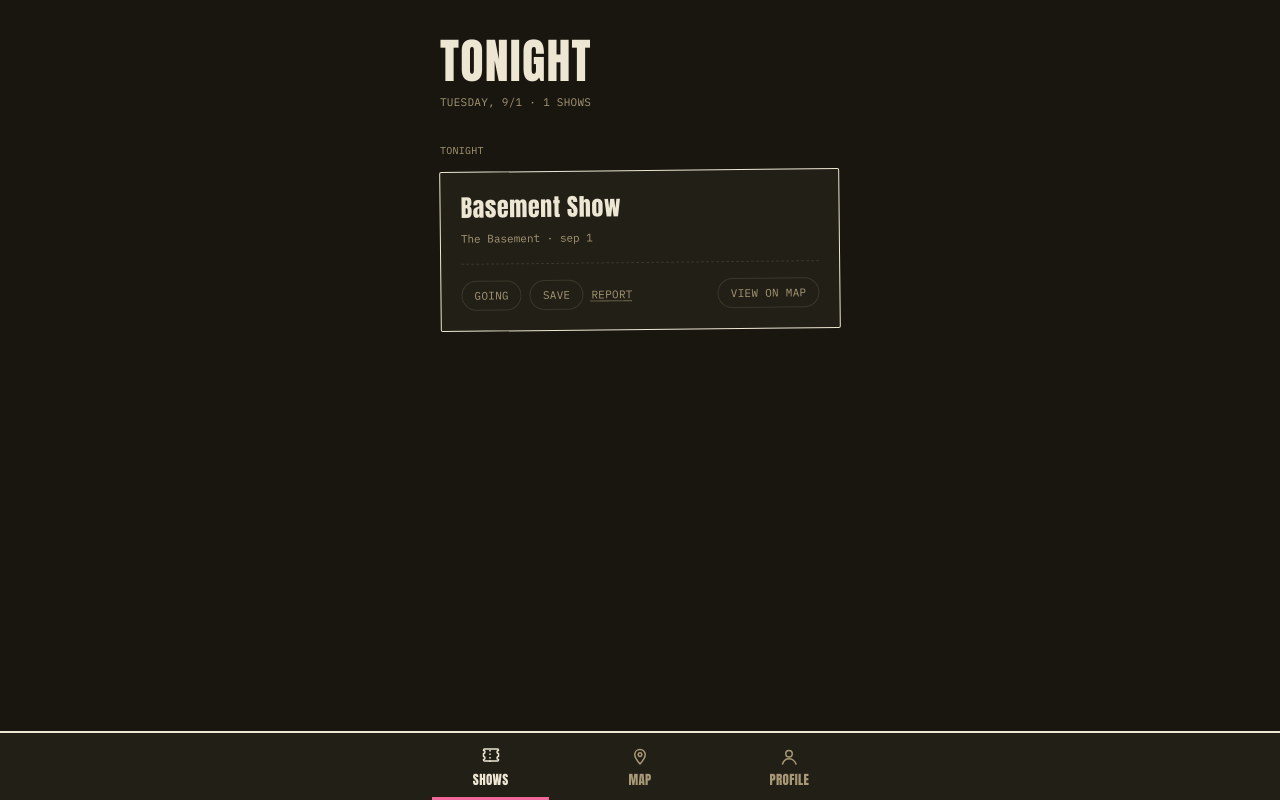
Test case: HomeBrowser RSVP optimistic update › rolls back the optimistic update and shows an error when the server action fails
Step 1. Click the button "going" → click(492, 295), box [461, 280, 522, 311]
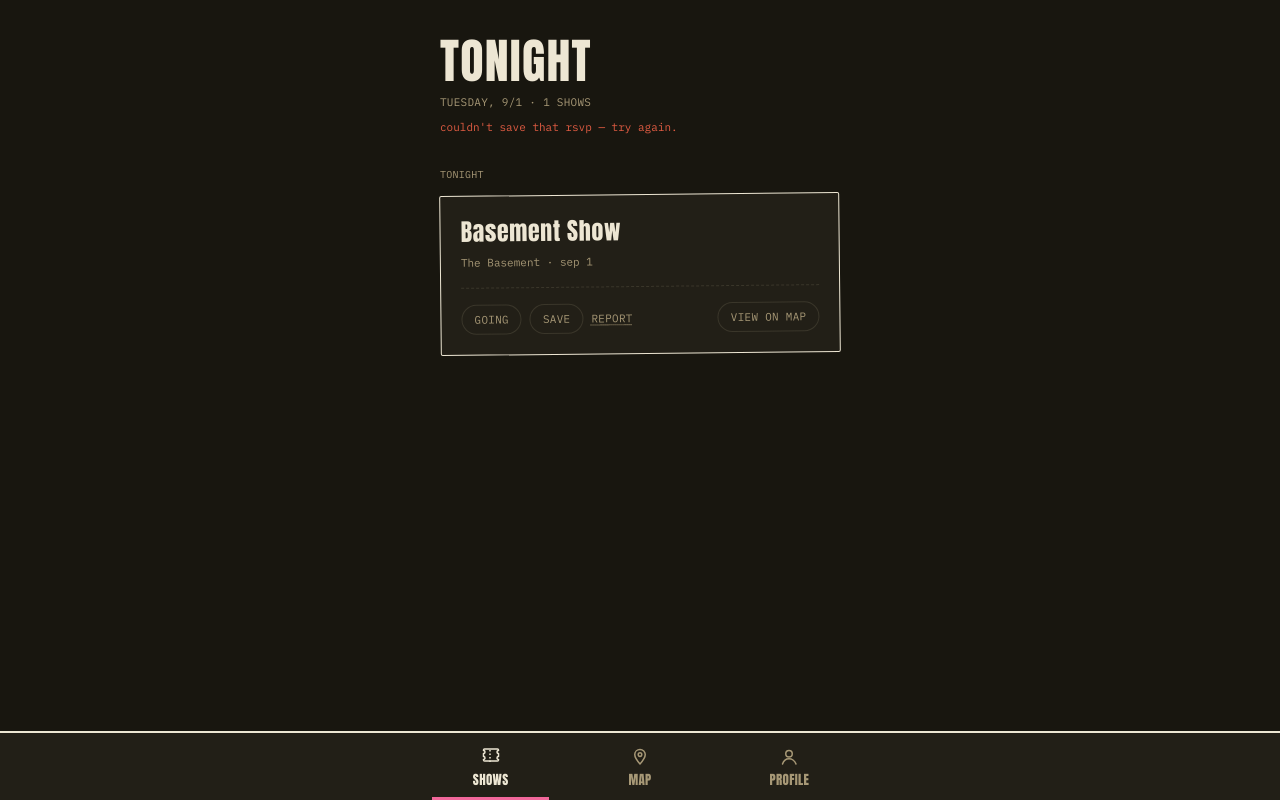
expect the text "1 going" is shown: met, box [461, 255, 593, 270]
expect the text "couldn't save that rsvp — try again." is shown: met, box [440, 120, 678, 134]
